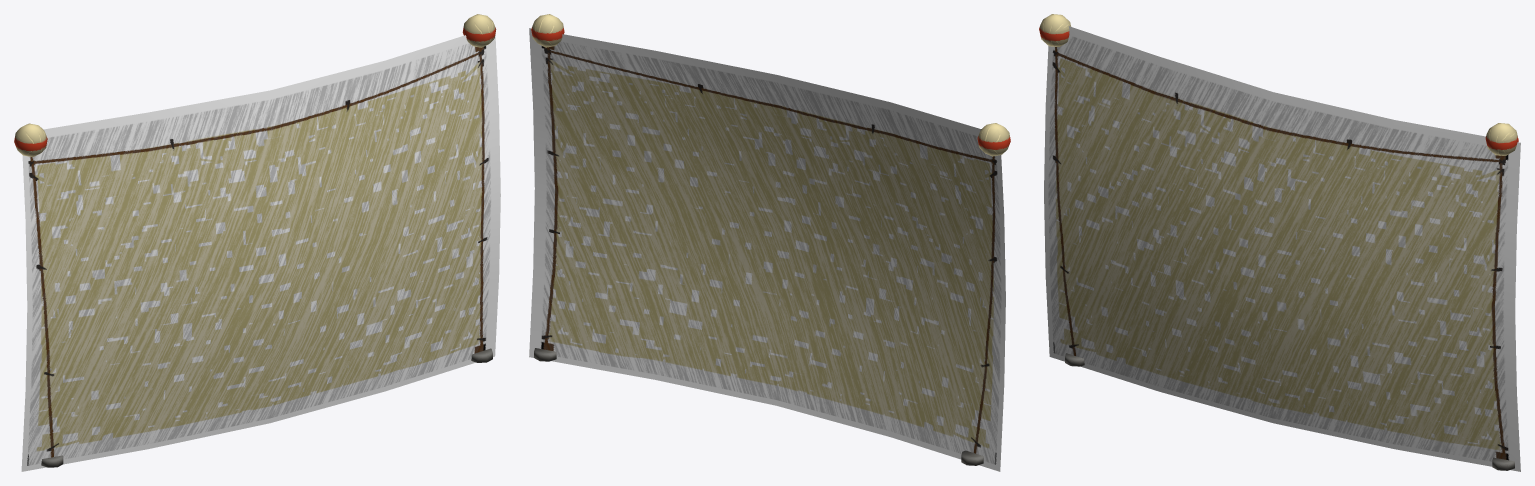
File: Fishnet.fbx
3 renders of one model, left to right at view 1: azimuth 30°, elevation 25°; view 2: azimuth 150°, elevation 25°; view 3: azimuth 330°, elevation 25°, orthographic.
Parts seen in each view (by area): view 1: Net1, Net2, Floater.001, Floater; view 2: Net1, Net2, Floater, Floater.001; view 3: Net1, Net2, Floater, Floater.001.
Part boxes in pixels (left/top/right/bottom): Net1: left=21, top=34, right=500, bottom=471; Net2: left=22, top=36, right=500, bottom=468; Floater.001: left=14, top=123, right=47, bottom=157; Floater: left=462, top=14, right=496, bottom=47; Net1: left=529, top=28, right=1005, bottom=471; Net2: left=529, top=28, right=1005, bottom=464; Floater: left=531, top=14, right=564, bottom=47; Floater.001: left=977, top=123, right=1010, bottom=156; Net1: left=1044, top=26, right=1520, bottom=471; Net2: left=1044, top=27, right=1520, bottom=471; Floater: left=1485, top=123, right=1518, bottom=155; Floater.001: left=1039, top=14, right=1071, bottom=46.
Bounding box in the file's own units: 279 × 192 × 31.3.
